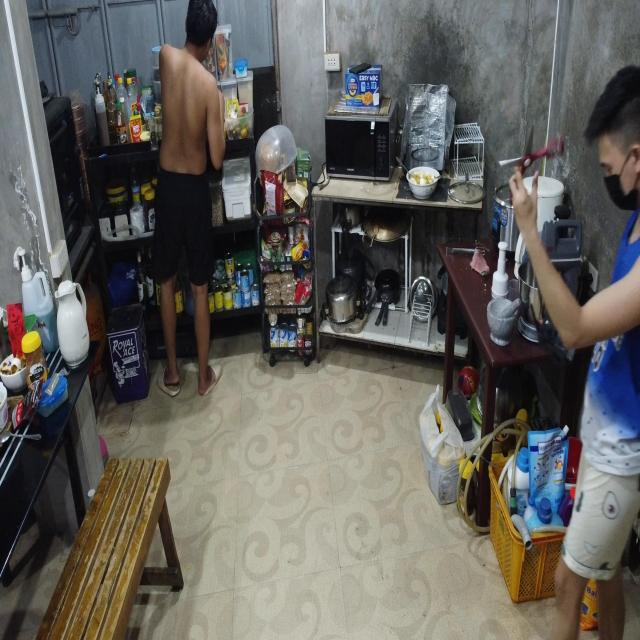scissor: (499, 122, 564, 206)
